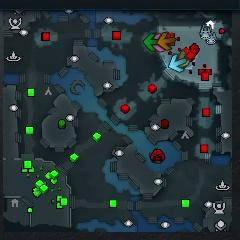x1: (153, 34, 163, 54)
x2: (178, 51, 190, 68)
x3: (169, 54, 186, 72)
x4: (144, 33, 158, 52)
x5: (157, 32, 176, 51)
